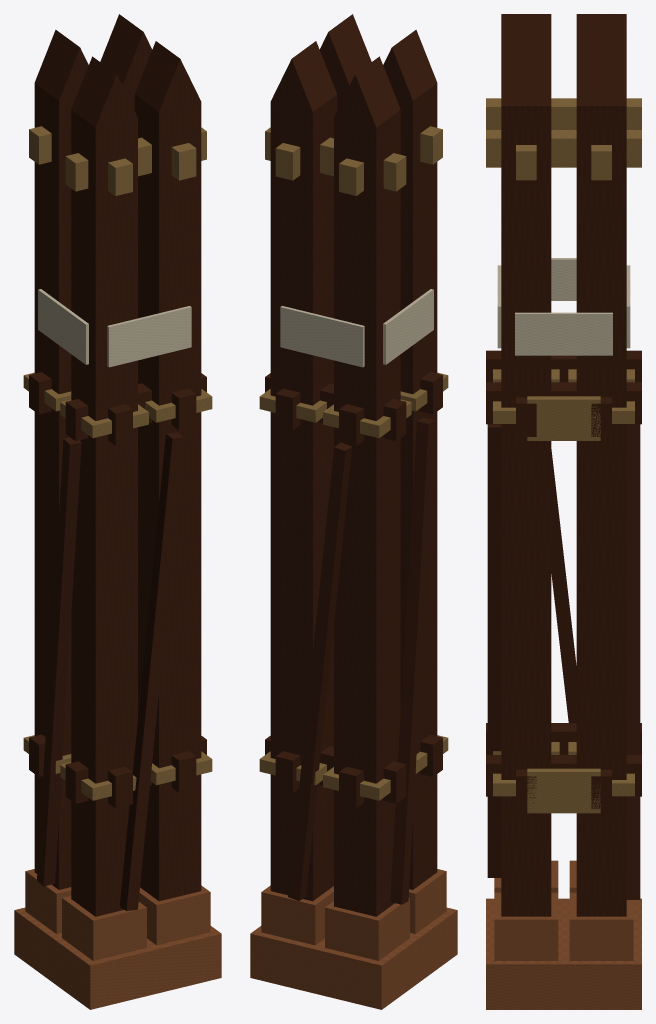
Rendered from Berber_PalisadeBastion_Age3_terminal.fbx.
3 views of the same model, side by side, from view 1: azimuth 30°, elevation 25°; view 2: azimuth 150°, elevation 25°; view 3: azimuth 270°, elevation 25° (orthographic). The views are drawn at different scales.
Visible parts, largest first — view 1: split_timber_upright, split_timber_upright.002, split_timber_upright.001, compacted_earth_footing, terminal_diagonal_stay.004, terminal_diagonal_stay.002, earth_post_socket, native_owner_stripe_source.002, earth_post_socket.002, split_timber_upright.003, native_owner_stripe_source, earth_post_socket.001 (+15 smaller); view 2: split_timber_upright.001, split_timber_upright.003, split_timber_upright, compacted_earth_footing, terminal_diagonal_stay.002, terminal_diagonal_stay, earth_post_socket.001, native_owner_stripe_source.003, earth_post_socket.003, split_timber_upright.002, native_owner_stripe_source, earth_post_socket (+15 smaller); view 3: split_timber_upright.002, split_timber_upright.003, compacted_earth_footing, terminal_diagonal_stay, terminal_diagonal_stay.004, native_owner_stripe_source.001, earth_post_socket.002, earth_post_socket.003, exposed_wall_socket_collar, terminal_diagonal_stay.002, exposed_wall_socket_collar.001, locking_head_tie_y.001 (+17 smaller).
Part boxes in pixels (box(x1,y1,x2,y2)): split_timber_upright: box(71, 56, 137, 916); split_timber_upright.002: box(134, 41, 201, 901); split_timber_upright.001: box(34, 30, 88, 889); compacted_earth_footing: box(14, 907, 221, 1009); terminal_diagonal_stay.004: box(119, 432, 183, 911); terminal_diagonal_stay.002: box(37, 437, 81, 886); earth_post_socket: box(62, 896, 146, 960); native_owner_stripe_source.002: box(107, 306, 191, 367); earth_post_socket.002: box(138, 885, 210, 945); split_timber_upright.003: box(100, 14, 152, 109); native_owner_stripe_source: box(38, 289, 88, 364); earth_post_socket.001: box(25, 869, 71, 933); split_timber_upright.001: box(334, 56, 400, 916); split_timber_upright.003: box(270, 41, 337, 901); split_timber_upright: box(383, 30, 437, 889); compacted_earth_footing: box(250, 907, 457, 1009); terminal_diagonal_stay.002: box(390, 417, 434, 904); terminal_diagonal_stay: box(288, 442, 352, 900); earth_post_socket.001: box(325, 898, 409, 960); native_owner_stripe_source.003: box(280, 306, 364, 367); earth_post_socket.003: box(261, 885, 333, 945); split_timber_upright.002: box(319, 14, 371, 109); native_owner_stripe_source: box(383, 289, 433, 364); earth_post_socket: box(408, 869, 446, 933); split_timber_upright.002: box(501, 46, 551, 916); split_timber_upright.003: box(576, 46, 626, 916); compacted_earth_footing: box(486, 898, 641, 1009); terminal_diagonal_stay: box(626, 424, 640, 899); terminal_diagonal_stay.004: box(487, 424, 501, 877); native_owner_stripe_source.001: box(515, 312, 612, 355); earth_post_socket.002: box(494, 892, 558, 960); earth_post_socket.003: box(569, 892, 633, 960); exposed_wall_socket_collar: box(527, 768, 600, 813); terminal_diagonal_stay.002: box(551, 449, 576, 722); exposed_wall_socket_collar.001: box(527, 396, 600, 440); locking_head_tie_y.001: box(486, 130, 641, 167).
Bounding box in the file's own units: 68.29 × 458 × 68.29.
Materials: 4 (4 with a texture image).
